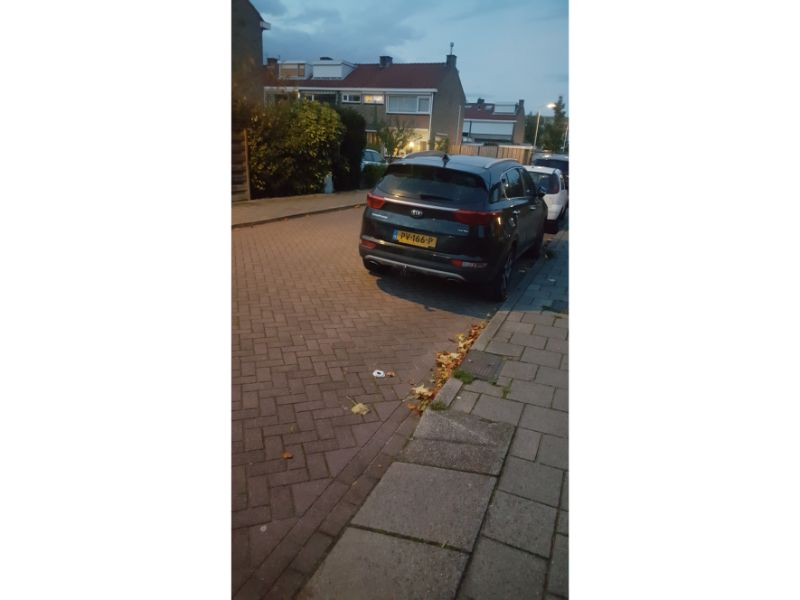kenteken: (389, 227, 439, 249)
